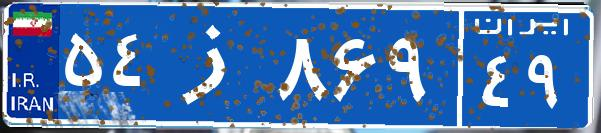4: (475, 38, 525, 113), (110, 28, 158, 105)
5: (57, 26, 110, 107)
6: (330, 28, 385, 110)
8: (273, 28, 330, 110)
9: (385, 28, 445, 110), (525, 38, 570, 115)
ز: (158, 15, 273, 115)
